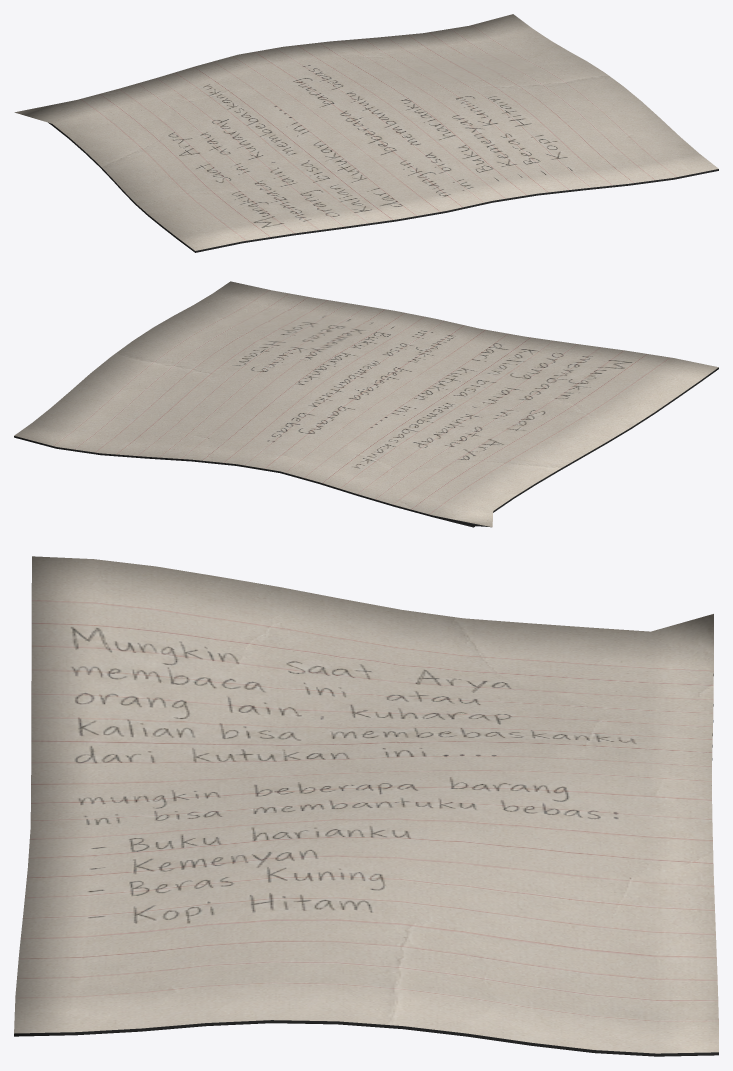
Rendered from Membebaskan.fbx.
3 renders of one model, top to bottom at view 1: azimuth 30°, elevation 25°; view 2: azimuth 150°, elevation 25°; view 3: azimuth 270°, elevation 25°, orthographic. The views are drawn at different scales.
Visible parts, largest first — view 1: Membebaskan; view 2: Membebaskan; view 3: Membebaskan.
Boxes of the visible parts, x1,y1,x2,y2 form: Membebaskan: (14,14,718,252); Membebaskan: (14,281,718,527); Membebaskan: (14,556,718,1056).
Size of the model in its own units: 146 by 13.02 by 103.
1 material, 1 textured.
